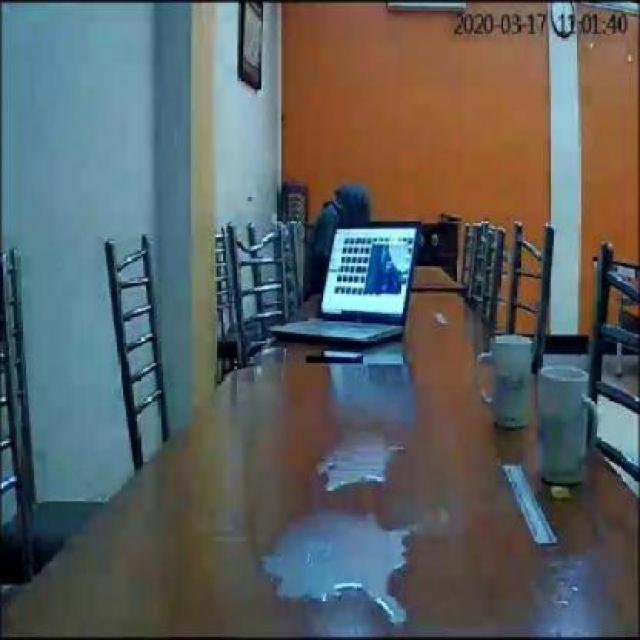spillage: (261, 513, 405, 624), (318, 432, 388, 491)
